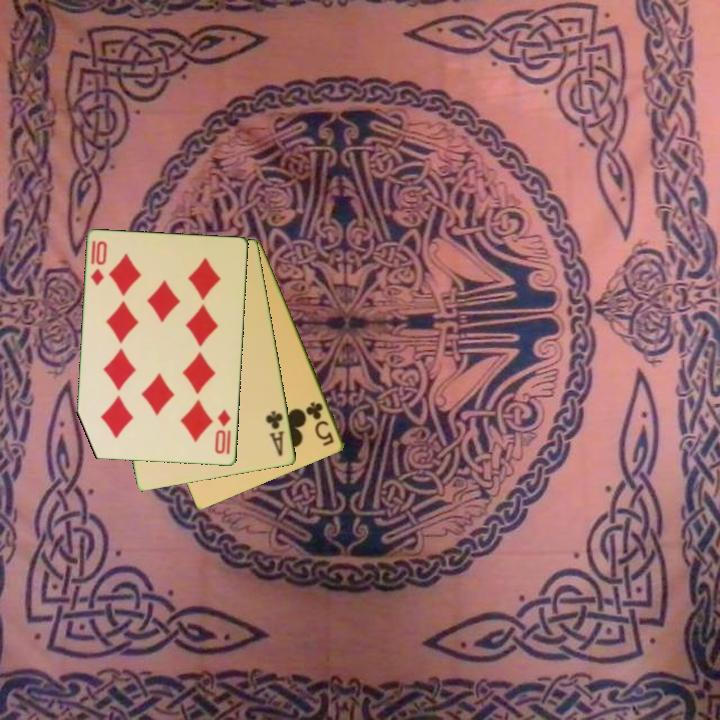10d: (88, 237, 110, 289), (212, 406, 234, 457)
5c: (303, 398, 337, 449)
Ac: (262, 407, 288, 459)
